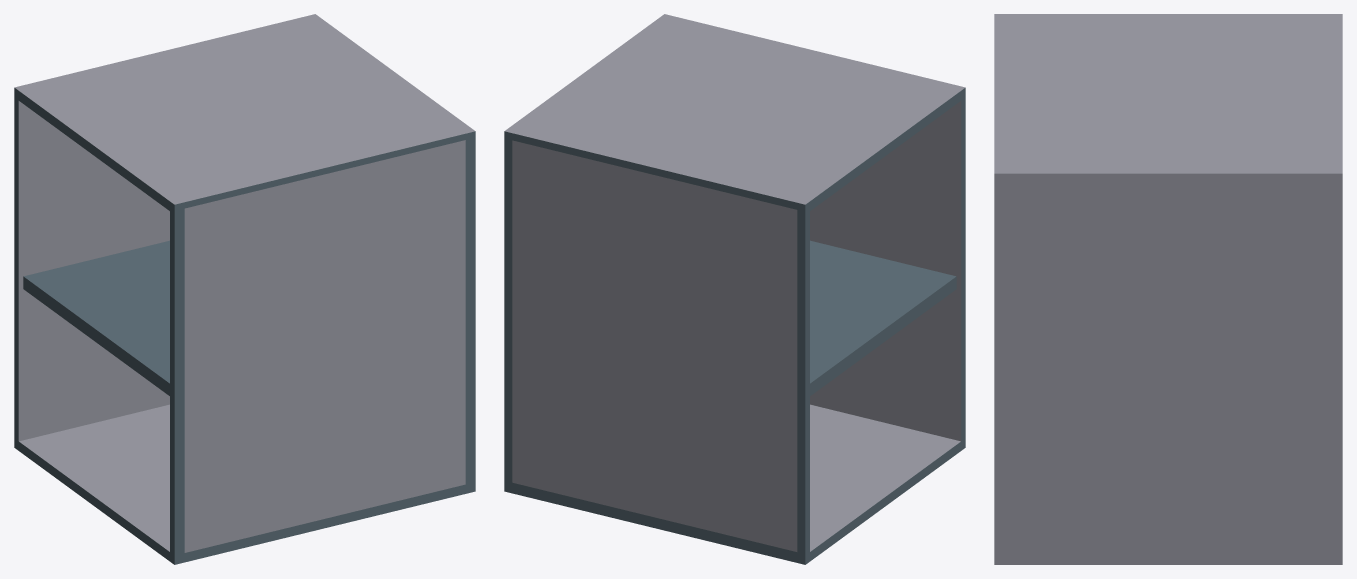
The model's file is Filing_Cabinet_Body.fbx.
3 renders of one model, left to right at view 1: azimuth 30°, elevation 25°; view 2: azimuth 150°, elevation 25°; view 3: azimuth 270°, elevation 25°, orthographic. The views are drawn at different scales.
Visible parts, largest first — view 1: Filing_Cabinet1; view 2: Filing_Cabinet1; view 3: Filing_Cabinet1.
Part boxes in pixels (x1=…): Filing_Cabinet1: x1=14, y1=14, x2=475, y2=564; Filing_Cabinet1: x1=504, y1=14, x2=965, y2=564; Filing_Cabinet1: x1=994, y1=14, x2=1342, y2=564.
Bounding box in the file's own units: 96.63 × 110 × 89.04.
